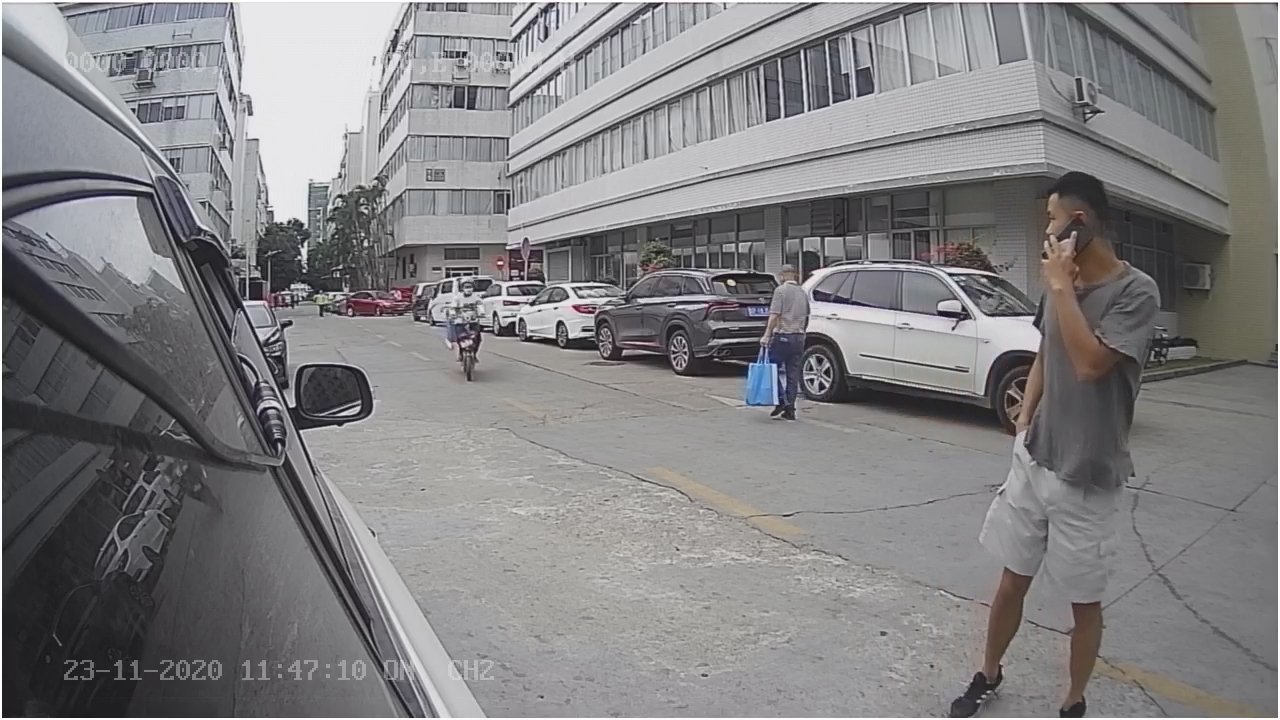person: (947, 161, 1160, 720), (740, 258, 822, 417)
